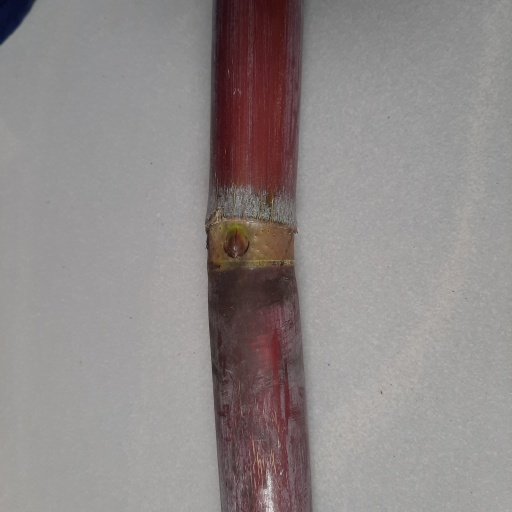Bud: (223, 227, 249, 259)
